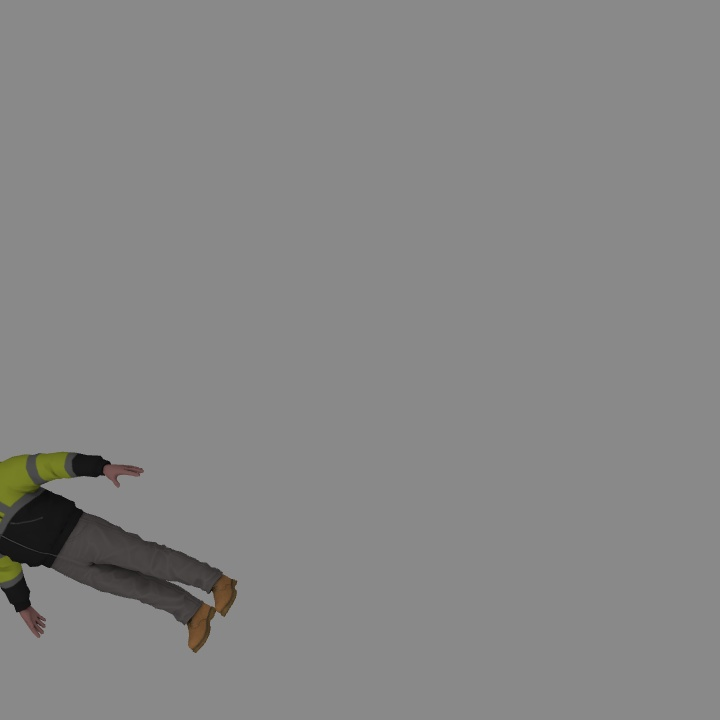victim: (1, 449, 238, 650)
